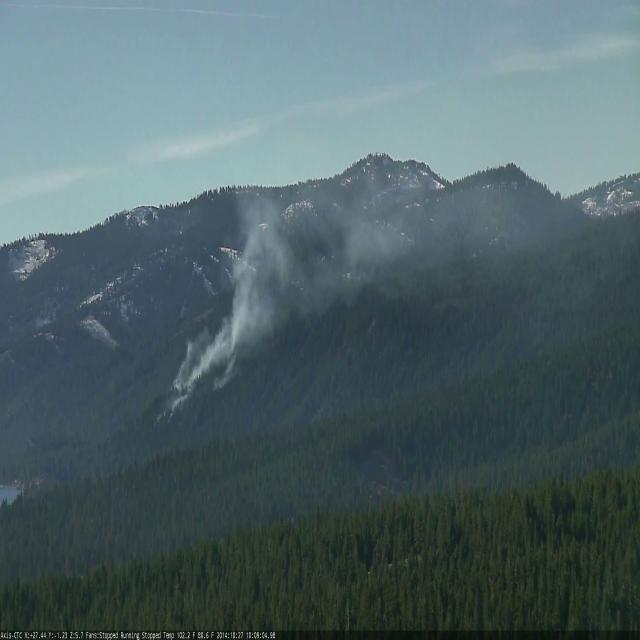smoke: (129, 126, 528, 442)
